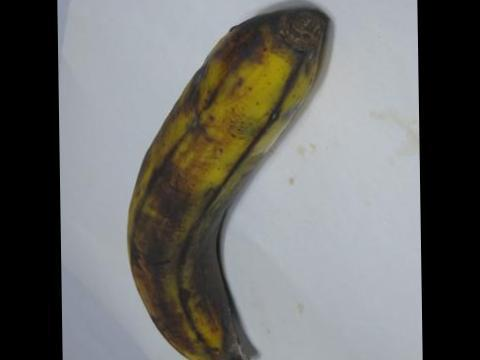overripe: (105, 0, 343, 359)
